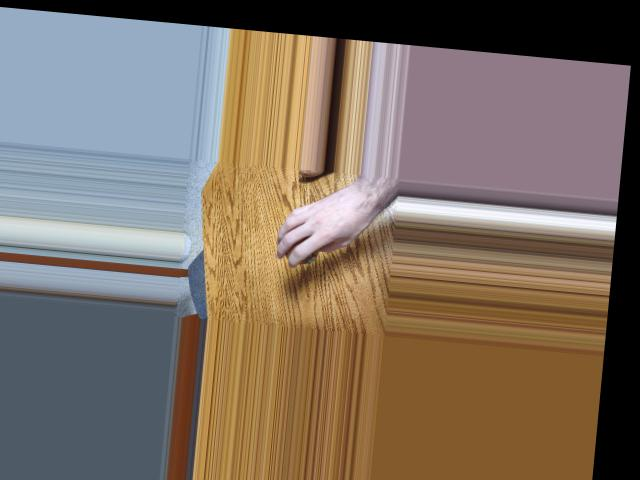onion: (280, 228, 324, 266)
